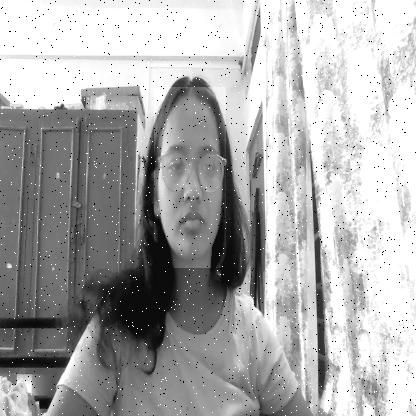Normal: (154, 87, 226, 268)
